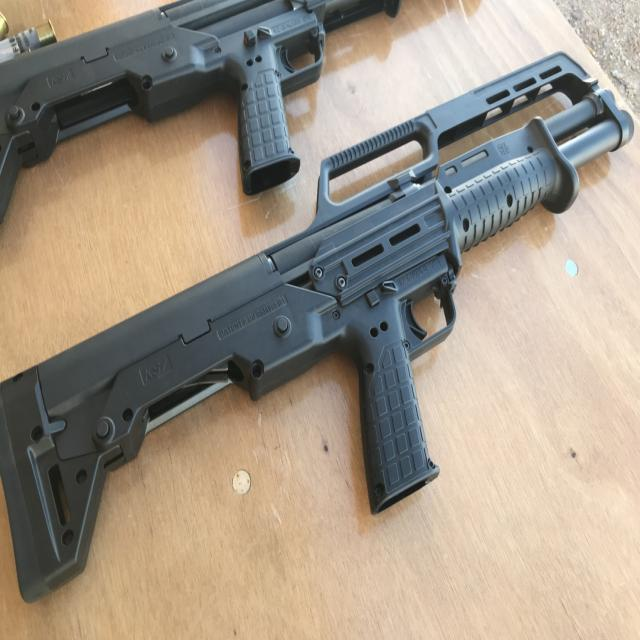shotgun: (2, 78, 628, 603)
